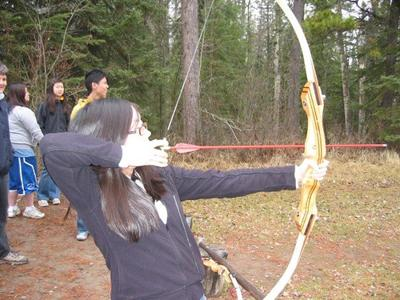person: (38, 93, 334, 300)
